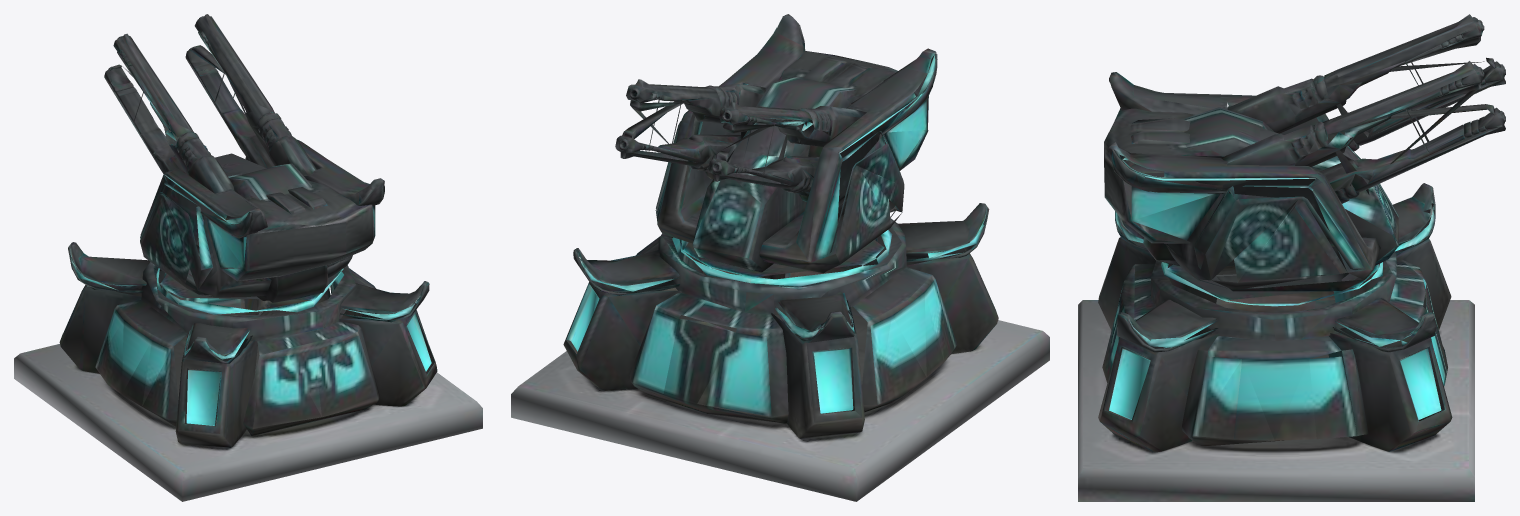
The model's file is defender_vx.glb.
3 renders of one model, left to right at view 1: azimuth 30°, elevation 25°; view 2: azimuth 150°, elevation 25°; view 3: azimuth 270°, elevation 25°, orthographic. The views are drawn at different scales.
Visible parts, largest first — view 1: Body, Turret, Trim; view 2: Body, Turret, Trim; view 3: Body, Turret, Trim.
Boxes of the visible parts, x1,y1,x2,y2 form: Body: (14,192,482,501); Turret: (104,14,384,302); Trim: (71,203,431,425); Body: (511,121,1049,501); Turret: (615,14,937,273); Trim: (567,172,986,416); Body: (1078,183,1474,501); Turret: (1104,14,1505,290); Trim: (1104,208,1444,440).
Size of the model in its own units: 7.6 by 7.72 by 7.94.
2 materials, 2 textured.
